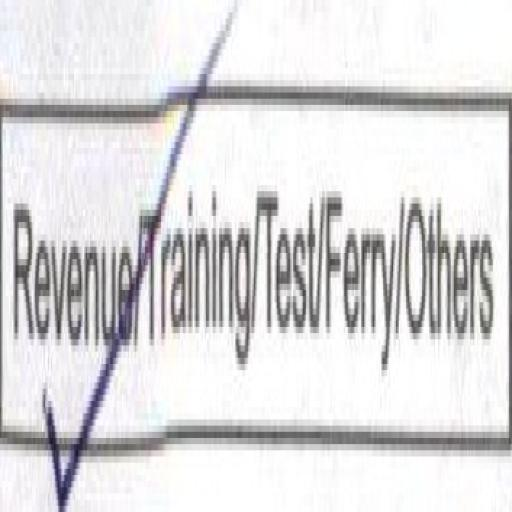check: (9, 33, 139, 512)
